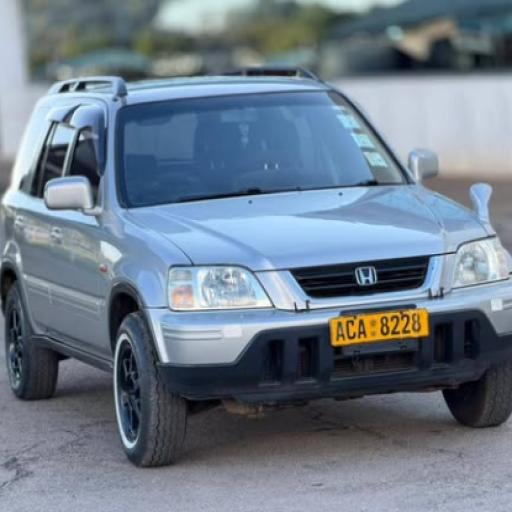number-plates: (326, 310, 431, 342)
